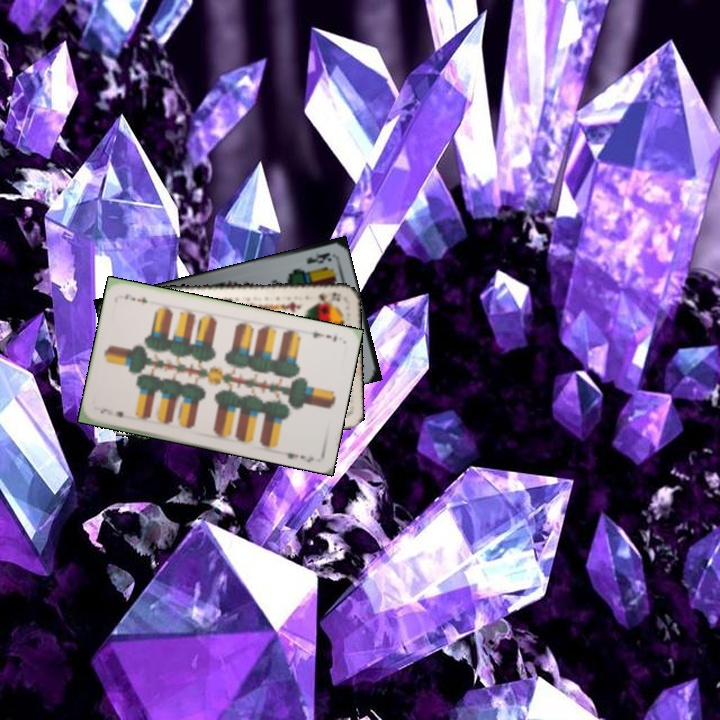E7: (308, 328, 339, 344), (96, 404, 126, 420)
EK: (303, 249, 334, 266)
SK: (312, 288, 343, 305)
